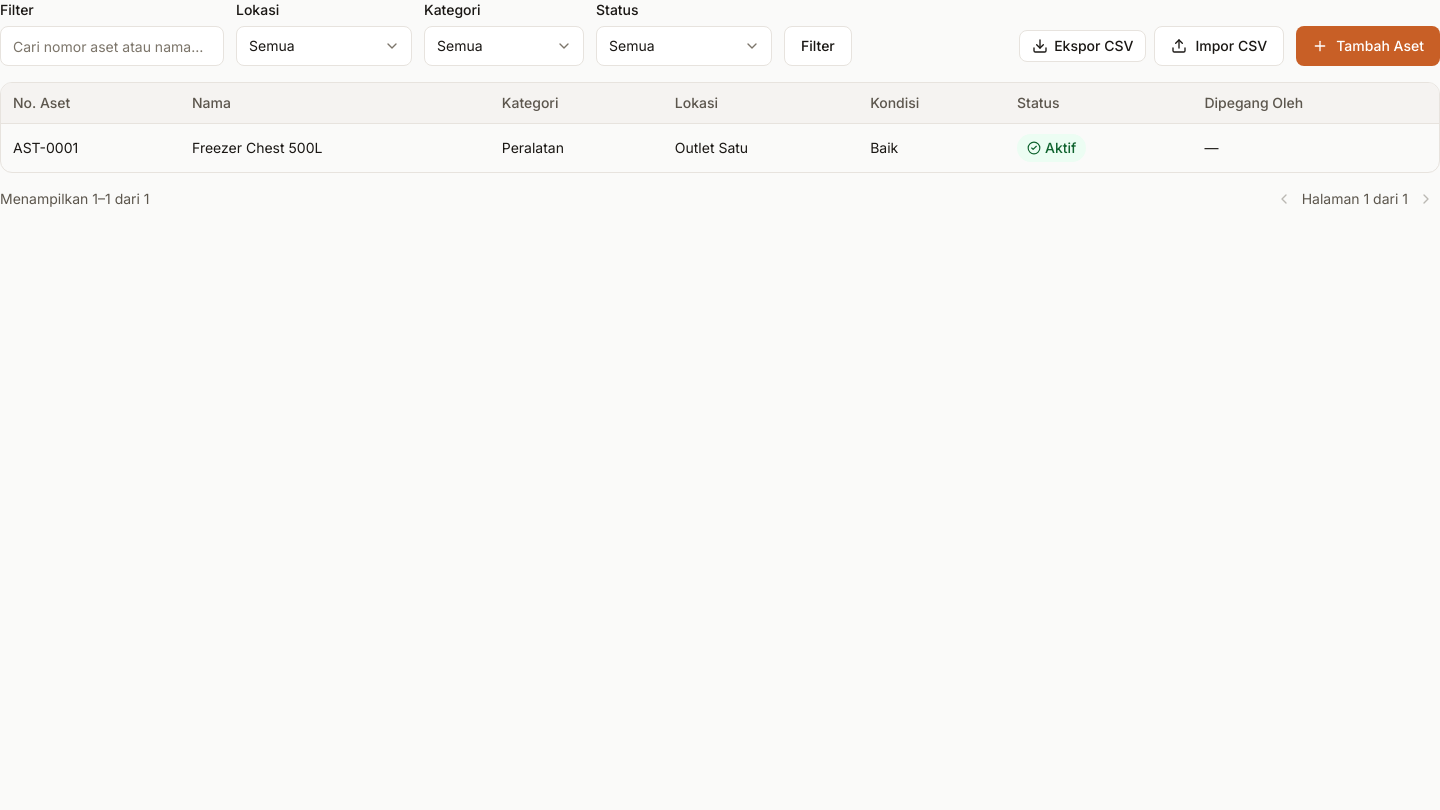
it: AssetRegisterPanel — the maintenance jobs on an asset › says so plainly when the asset has no jobs
What coordinates should you click on to do the following:
click the text "Freezer Chest 500L"
I would click on:
 (257, 148)
Its box is [180, 124, 490, 172].
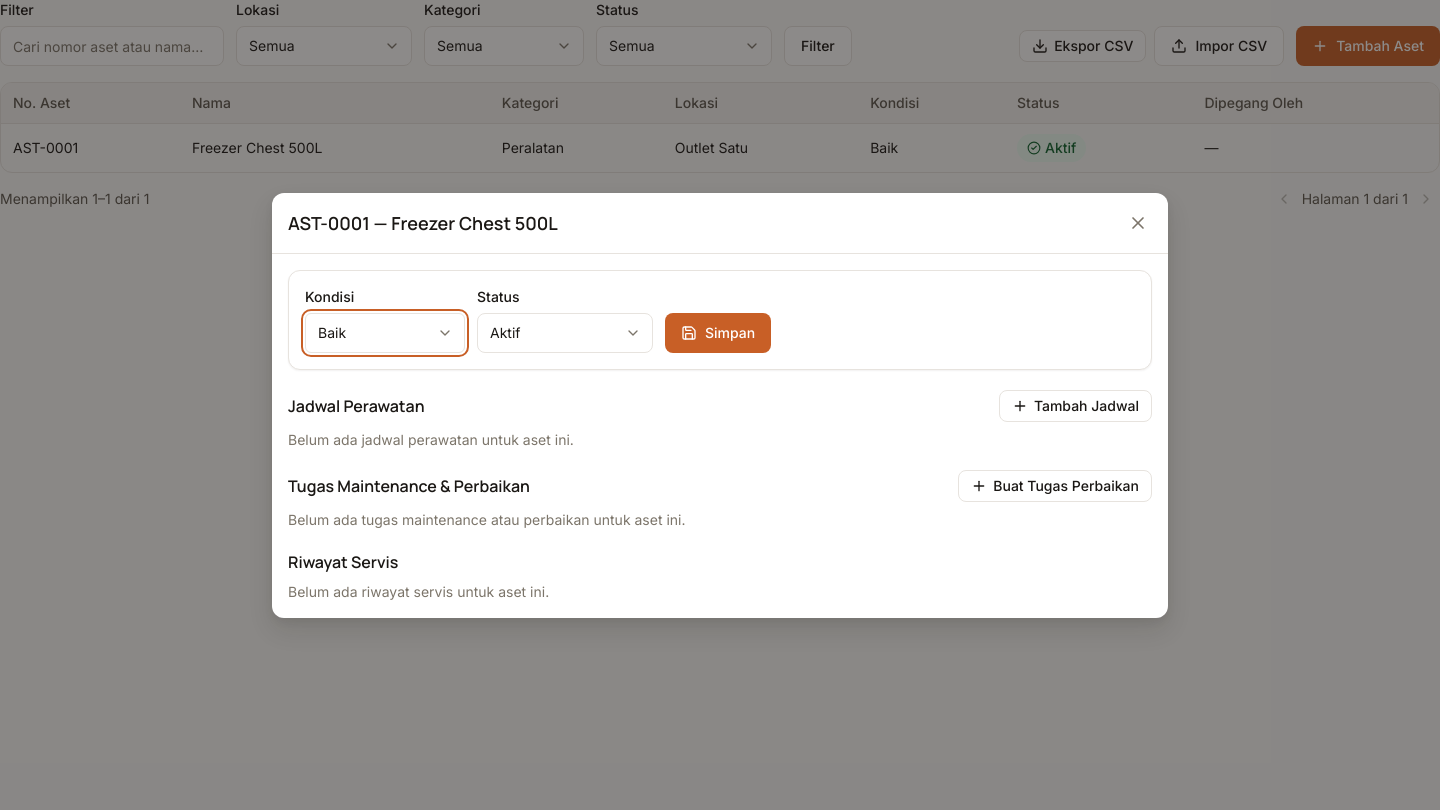
Check: the text "Belum ada tugas maintenance atau perbaikan untuk aset ini." is shown, box [288, 510, 686, 528]
